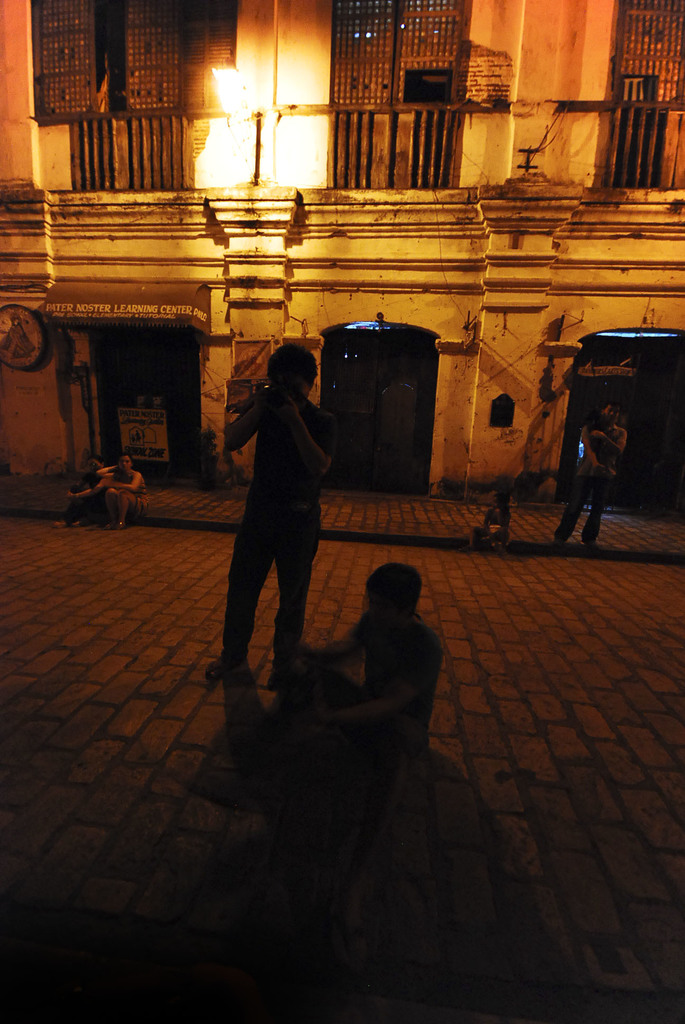Human_hand: (273, 397, 297, 424), (298, 644, 315, 666), (322, 712, 342, 728), (588, 429, 604, 442), (62, 491, 76, 502), (592, 461, 604, 470), (100, 479, 111, 488), (494, 507, 503, 518)
